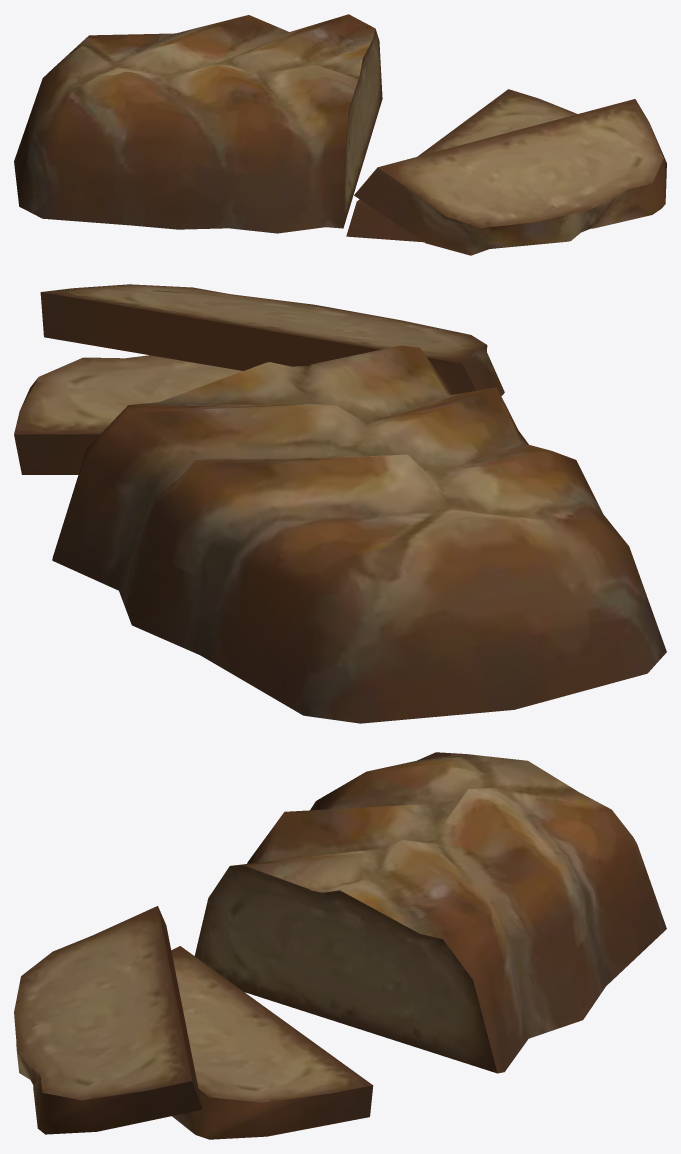
3 renders of one model, top to bottom at view 1: azimuth 30°, elevation 25°; view 2: azimuth 150°, elevation 25°; view 3: azimuth 270°, elevation 25°, orthographic. The views are drawn at different scales.
Bounding box in the file's own units: 1.08 × 0.2378 × 0.9513.
Materials: 1 (1 with a texture image).
